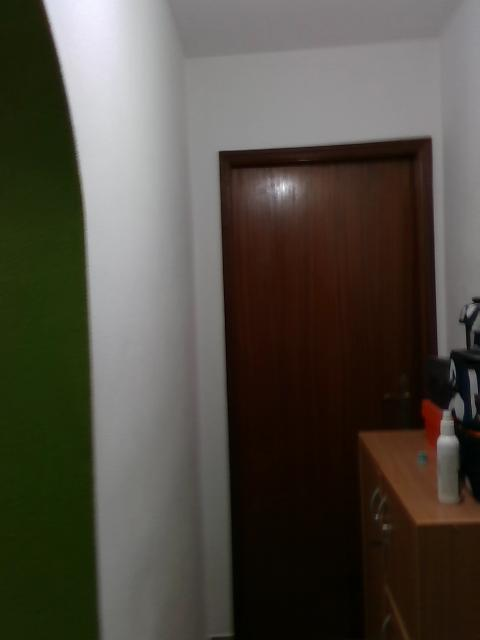closed_door: (216, 136, 432, 639)
